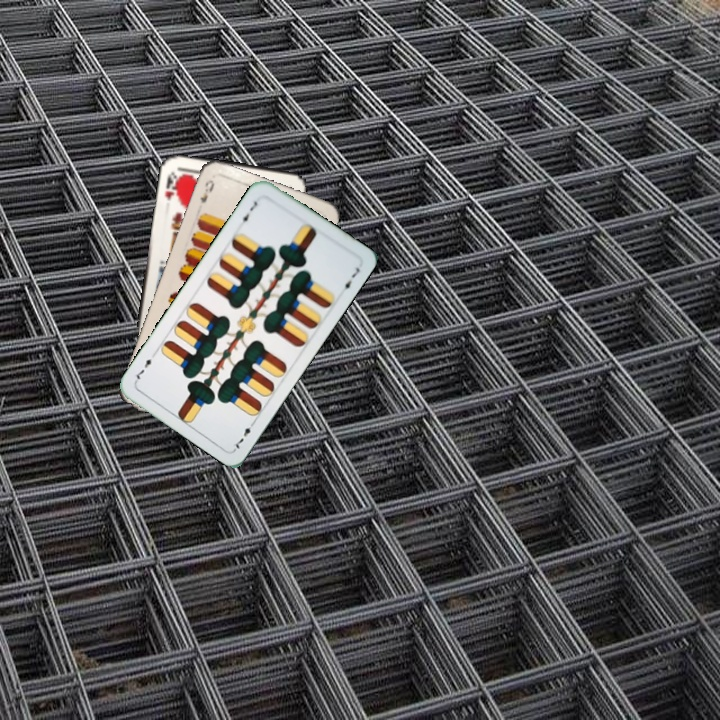E7: (230, 416, 258, 452), (235, 197, 260, 228)
E9: (196, 175, 217, 206)
HK: (160, 168, 181, 203)
